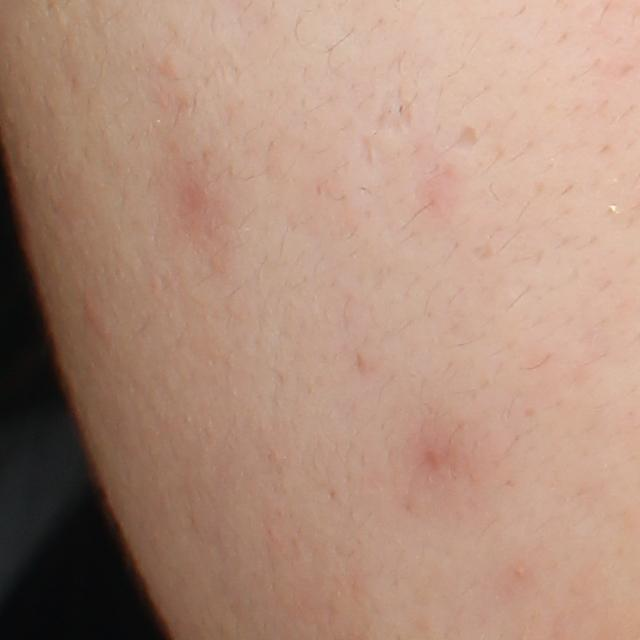atrophic_scar: (451, 122, 482, 153), (357, 132, 377, 175)
